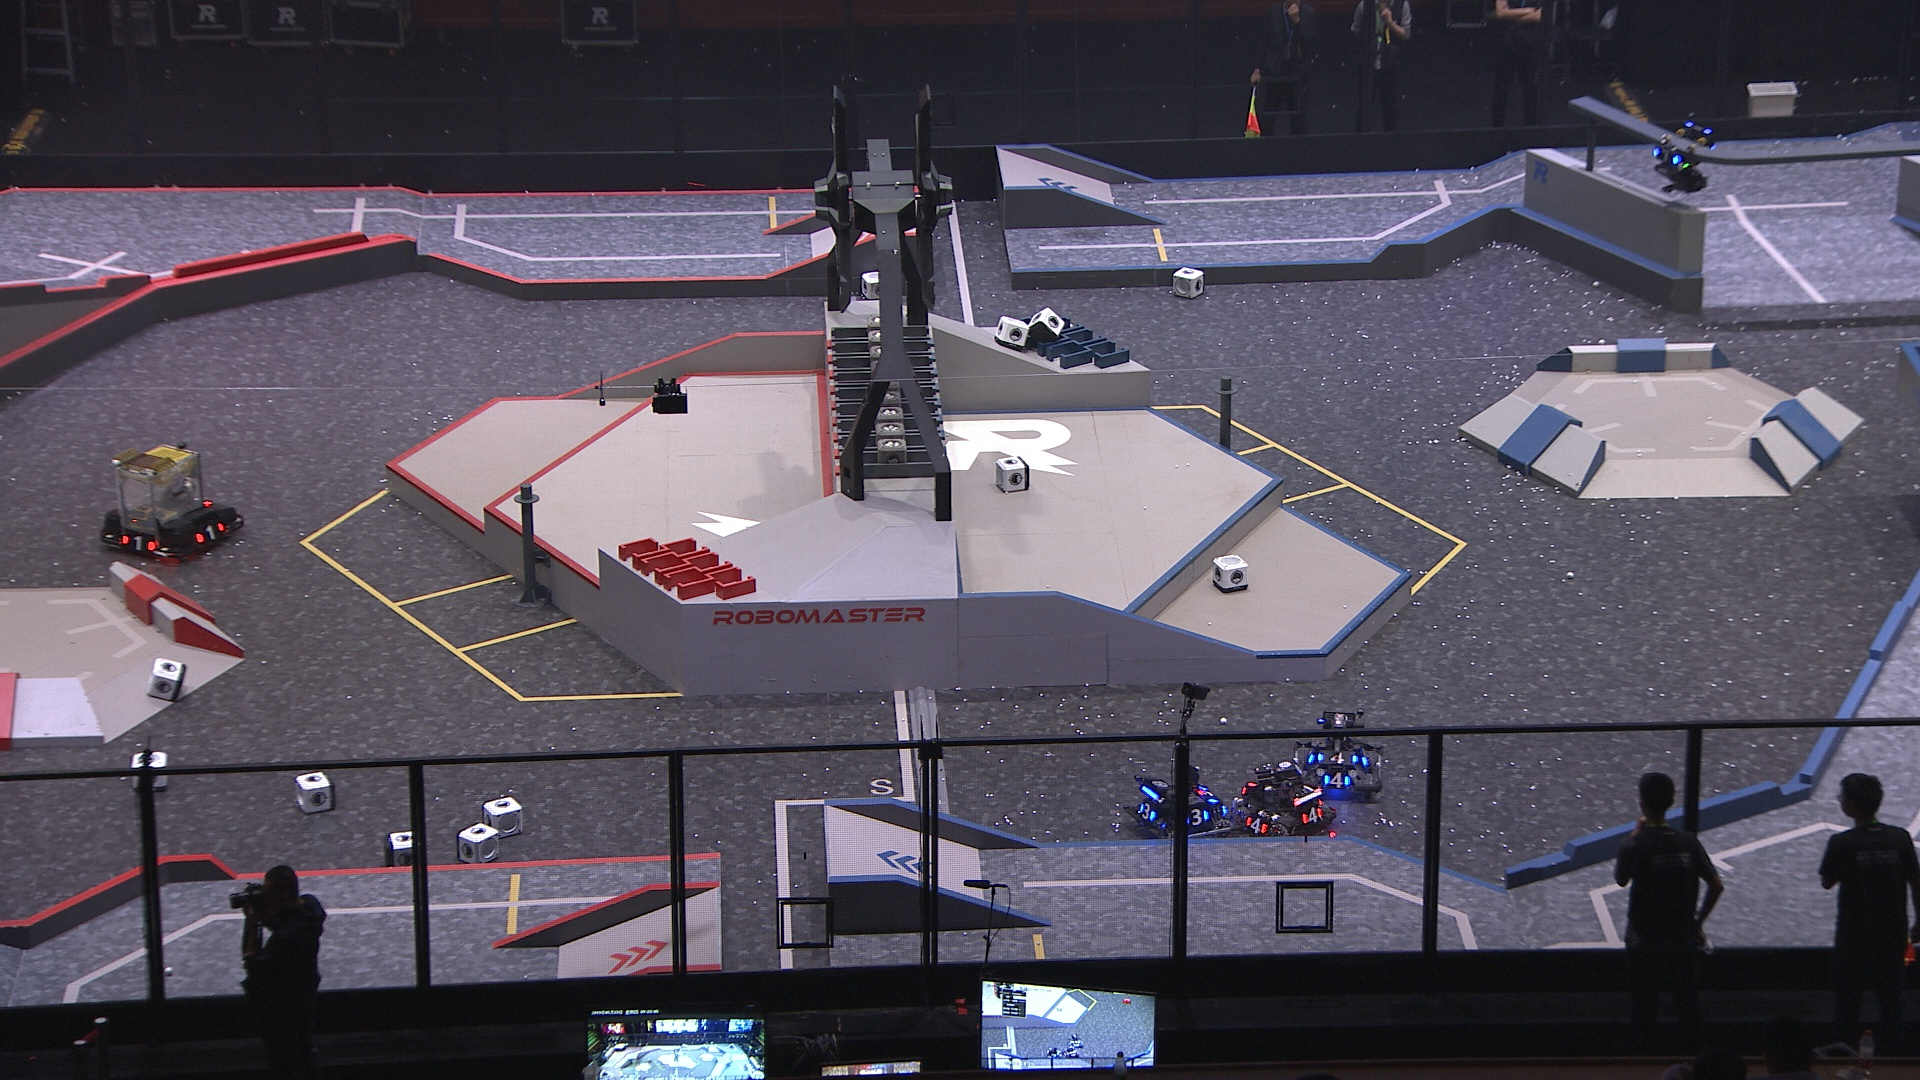armor: (120, 531, 160, 553), (195, 522, 228, 545), (1313, 752, 1364, 766), (1651, 146, 1679, 166), (1135, 799, 1156, 822), (1244, 818, 1269, 835), (1302, 807, 1324, 825), (1185, 808, 1209, 825), (1325, 773, 1352, 787), (1197, 785, 1218, 802)
car: (102, 444, 239, 566), (1222, 761, 1338, 840), (1133, 760, 1232, 841), (1302, 708, 1385, 796)
watcher: (1647, 116, 1714, 194)
